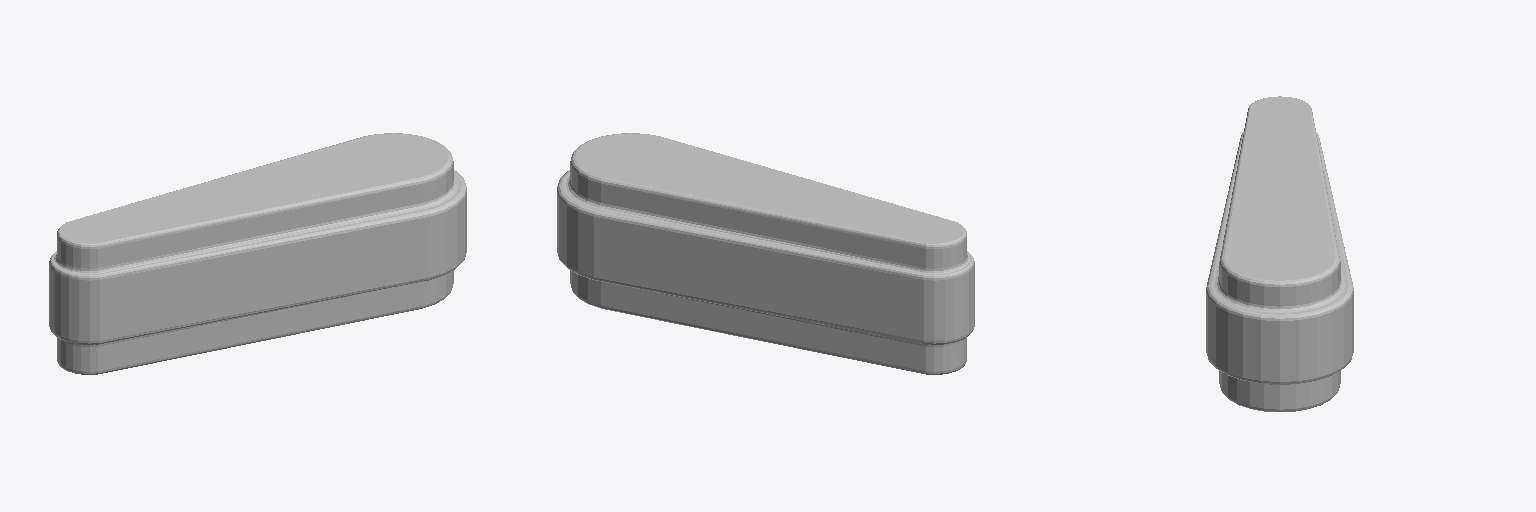
Rendered from flipper.obj.
3 renders of one model, left to right at view 1: azimuth 30°, elevation 25°; view 2: azimuth 150°, elevation 25°; view 3: azimuth 270°, elevation 25°, orthographic.
Visible parts, largest first — view 1: LeftBumper_Cylinder.003; view 2: LeftBumper_Cylinder.003; view 3: LeftBumper_Cylinder.003.
Boxes of the visible parts, <box> form: LeftBumper_Cylinder.003: <box>49,133,466,374</box>; LeftBumper_Cylinder.003: <box>557,133,974,374</box>; LeftBumper_Cylinder.003: <box>1206,96,1353,411</box>.
Size of the model in its own units: 1.09 by 0.3403 by 0.349.